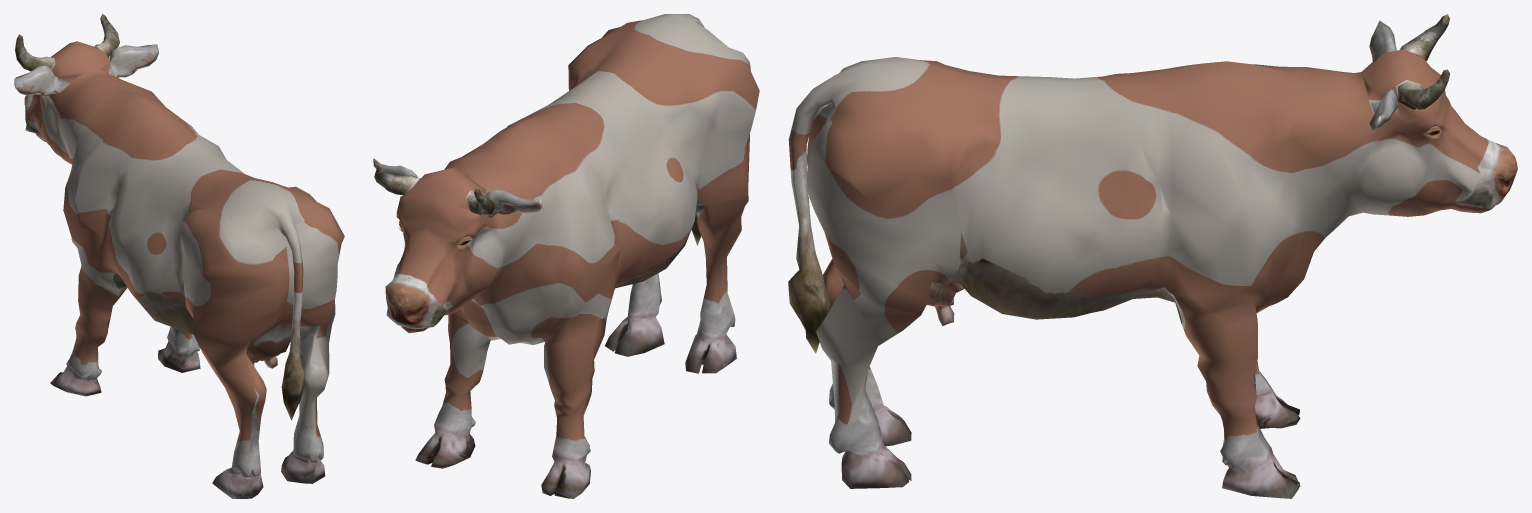
Rendered from cow74.glb.
3 views of the same model, side by side, from view 1: azimuth 30°, elevation 25°; view 2: azimuth 150°, elevation 25°; view 3: azimuth 270°, elevation 25° (orthographic). The views are drawn at different scales.
Parts seen in each view (by area): view 1: Cube; view 2: Cube; view 3: Cube.
Boxes of the visible parts, bbox=[...] form: Cube: bbox=[14, 14, 344, 498]; Cube: bbox=[373, 14, 759, 498]; Cube: bbox=[788, 14, 1517, 498].
Bounding box in the file's own units: 3.07 × 6.22 × 9.84.
Materials: 3 (3 with a texture image).
